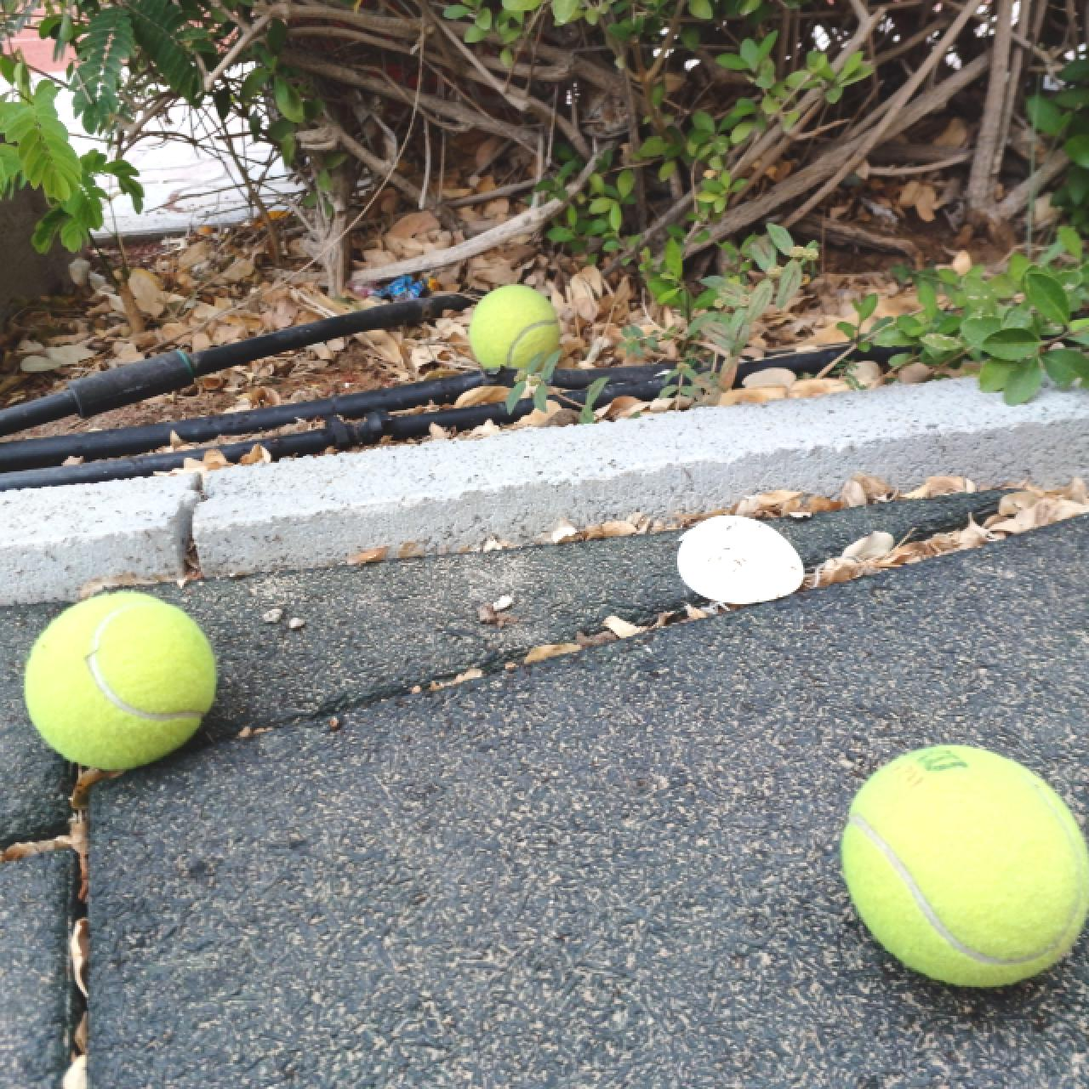tennis-ball: (835, 740, 1089, 992), (23, 588, 221, 772), (467, 282, 560, 374)
